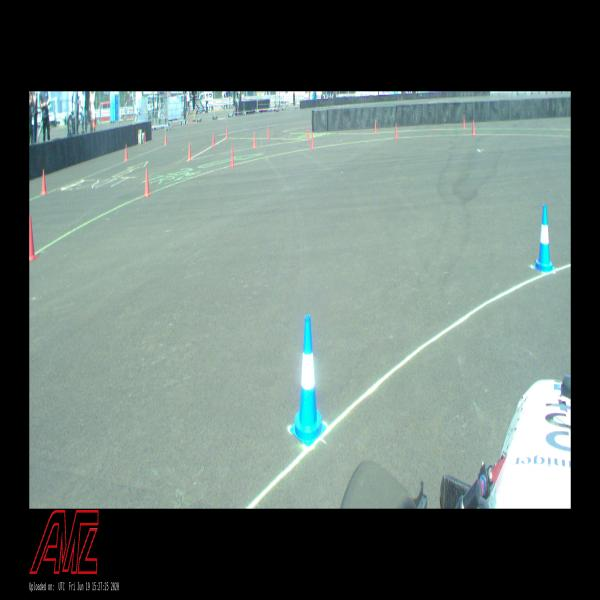blue_cone: (290, 314, 326, 446), (535, 205, 554, 272)
unknown_cone: (30, 214, 38, 263), (143, 167, 151, 198), (40, 168, 48, 196), (229, 144, 236, 166), (187, 142, 193, 161), (310, 130, 315, 150), (124, 143, 129, 162), (252, 131, 257, 148), (471, 119, 476, 135), (394, 121, 398, 140), (266, 124, 270, 140), (374, 119, 378, 134), (306, 125, 310, 140), (462, 115, 466, 129), (164, 131, 168, 144), (212, 132, 215, 147), (226, 126, 228, 138)
